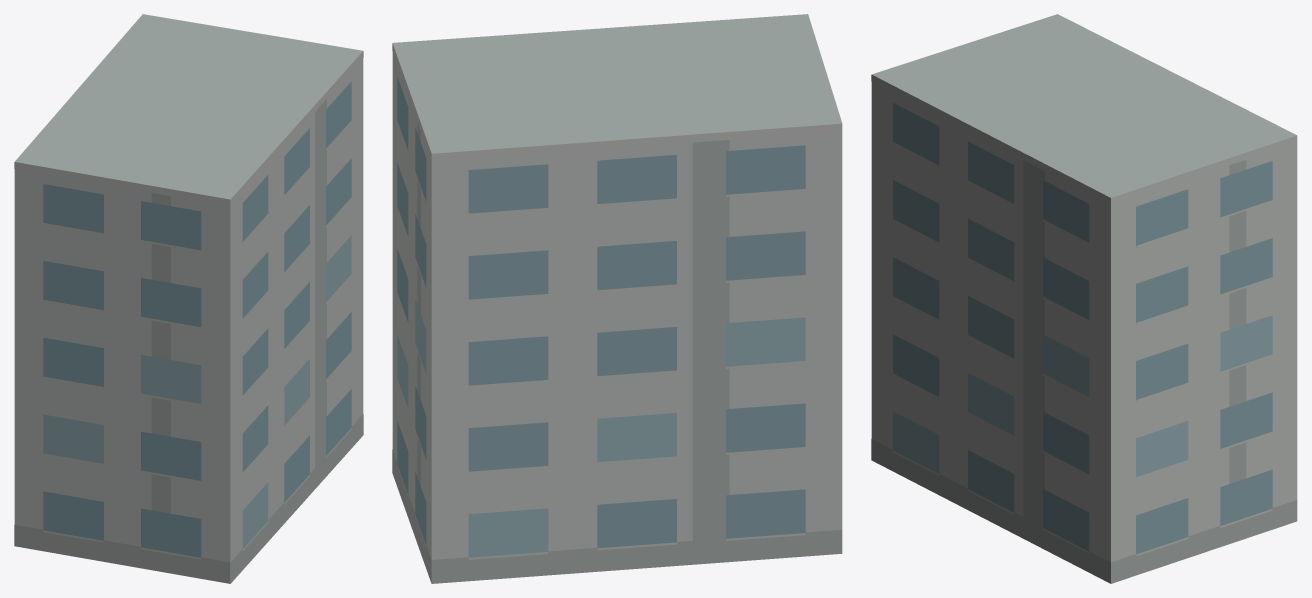
The model's file is survey-upis-32804461.glb.
3 views of the same model, side by side, from view 1: azimuth 30°, elevation 25°; view 2: azimuth 150°, elevation 25°; view 3: azimuth 270°, elevation 25° (orthographic). The views are drawn at different scales.
Visible parts, largest first — view 1: survey-upis-32804461.tmp; view 2: survey-upis-32804461.tmp; view 3: survey-upis-32804461.tmp.
Boxes of the visible parts, <box> form: survey-upis-32804461.tmp: <box>14,14,363,583</box>; survey-upis-32804461.tmp: <box>392,14,842,583</box>; survey-upis-32804461.tmp: <box>871,14,1297,583</box>.
Size of the model in its own units: 13.45 by 13.15 by 13.16.
